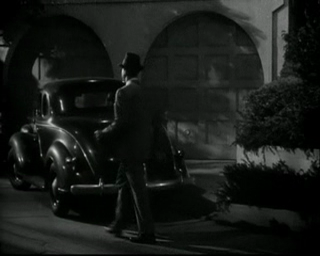face_es: (121, 66, 132, 81)
ls: (1, 1, 320, 256)
person: (93, 51, 168, 240)
